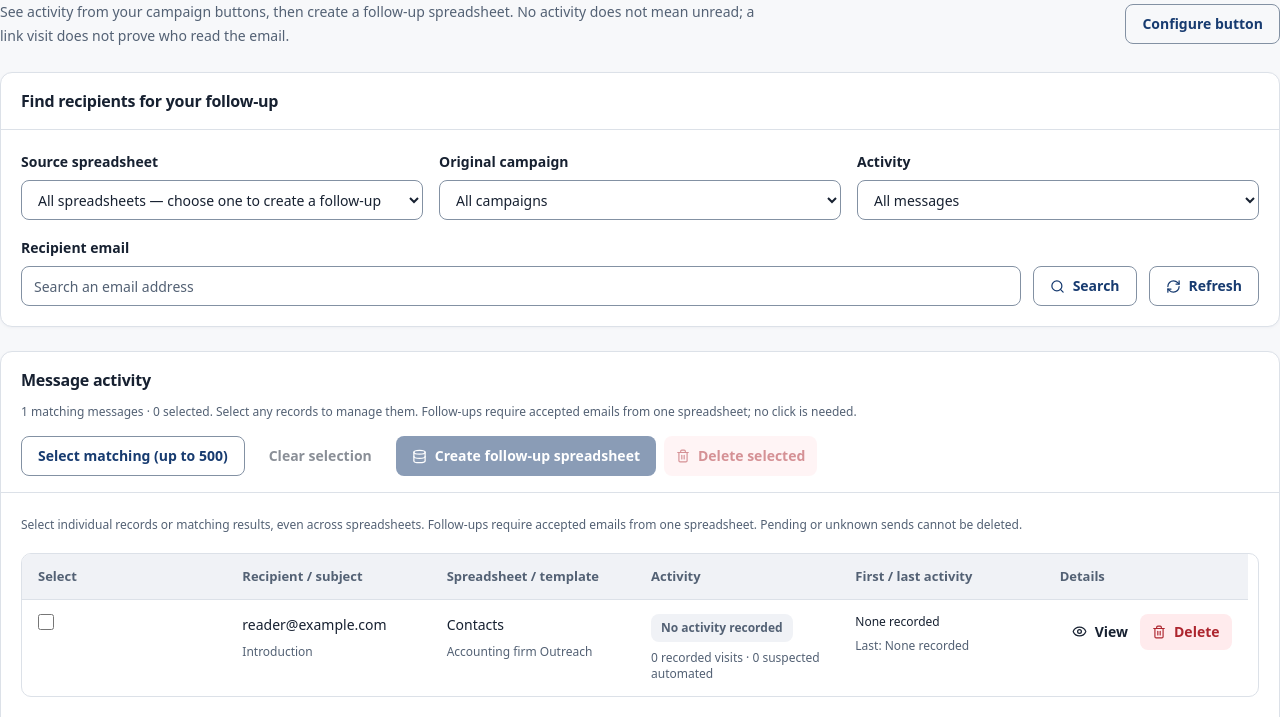
Test: simple engagement UI › selects a zero-click message directly without filtering out other spreadsheets and requires confirmation
The image size is (1280, 717).
Expected: the text "reader@example.com" is shown, [242,615,387,634]
Expected: the button "Create follow-up spreadsheet" is disabled, [396,436,656,476]
Click the checkbox at (46, 622), box [38,614,54,630]
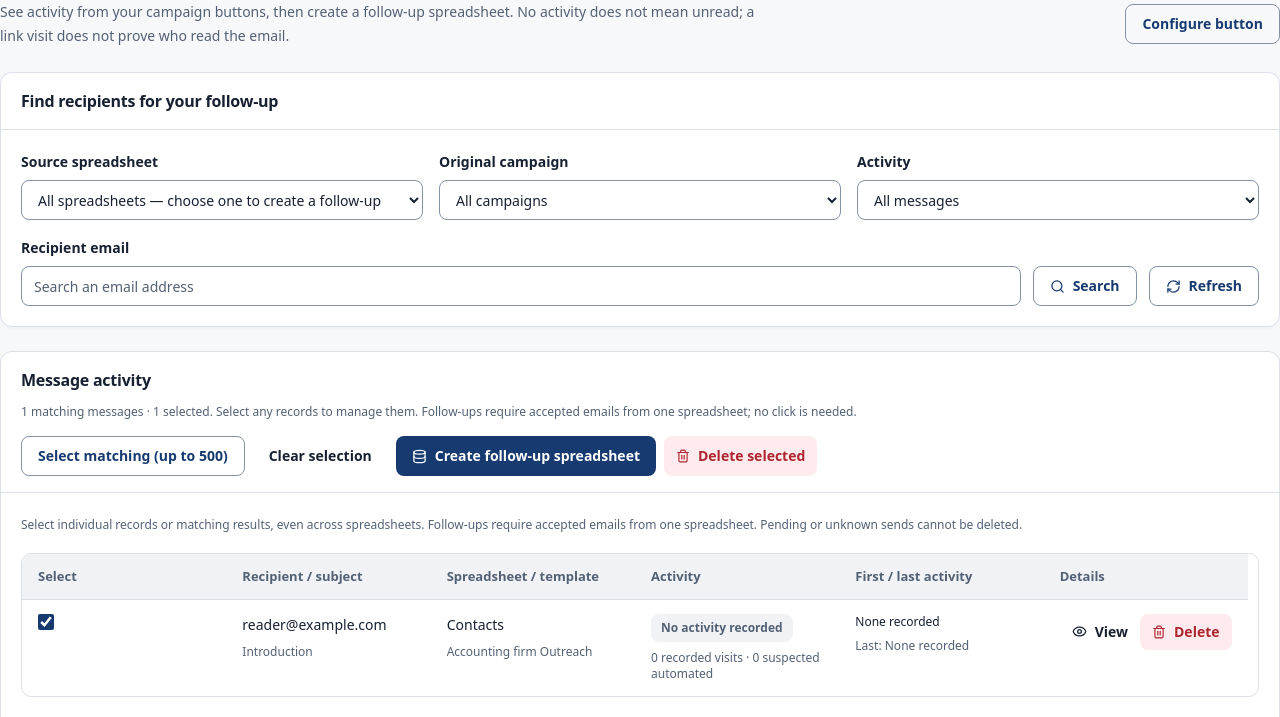
Expected: the button "Create follow-up spreadsheet" is enabled
Click the button "Create follow-up spreadsheet" at (526, 456), box [396,436,656,476]
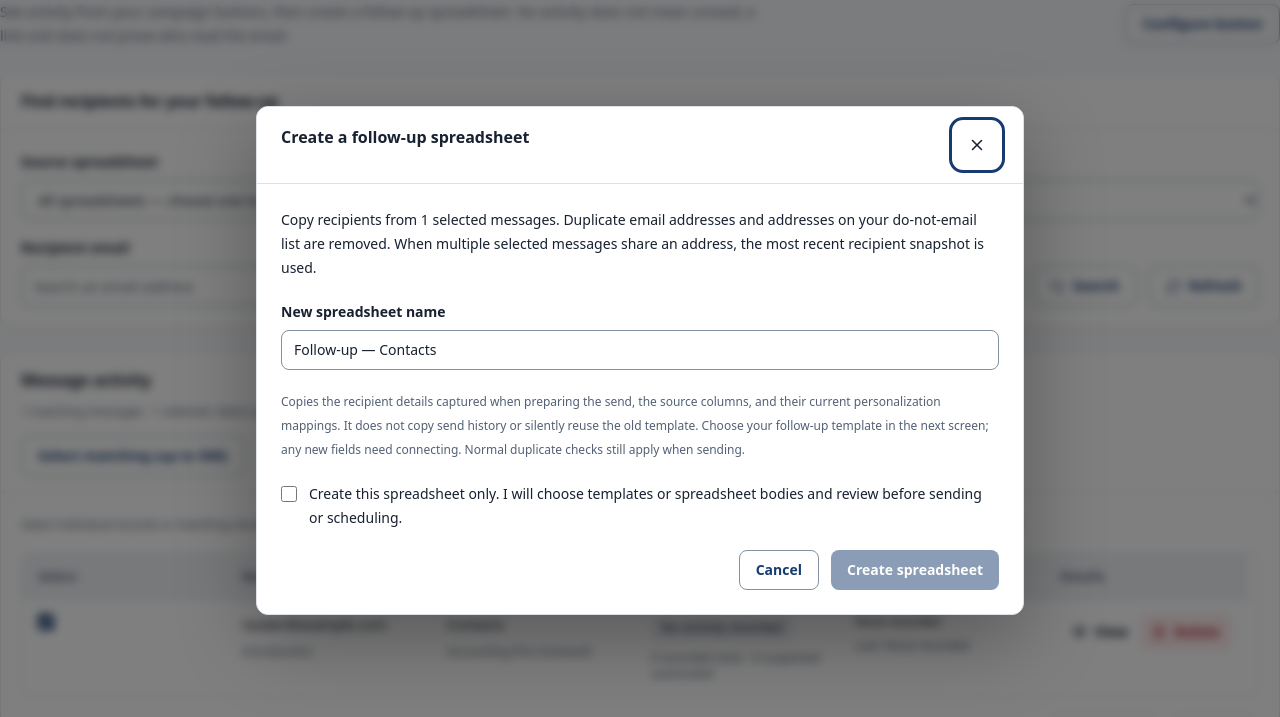
Expected: the button "Create spreadsheet" is disabled, [831,550,999,590]
Click the checkbox labelled "Create this spreadsheet only" at (289, 494), box [281,486,297,502]
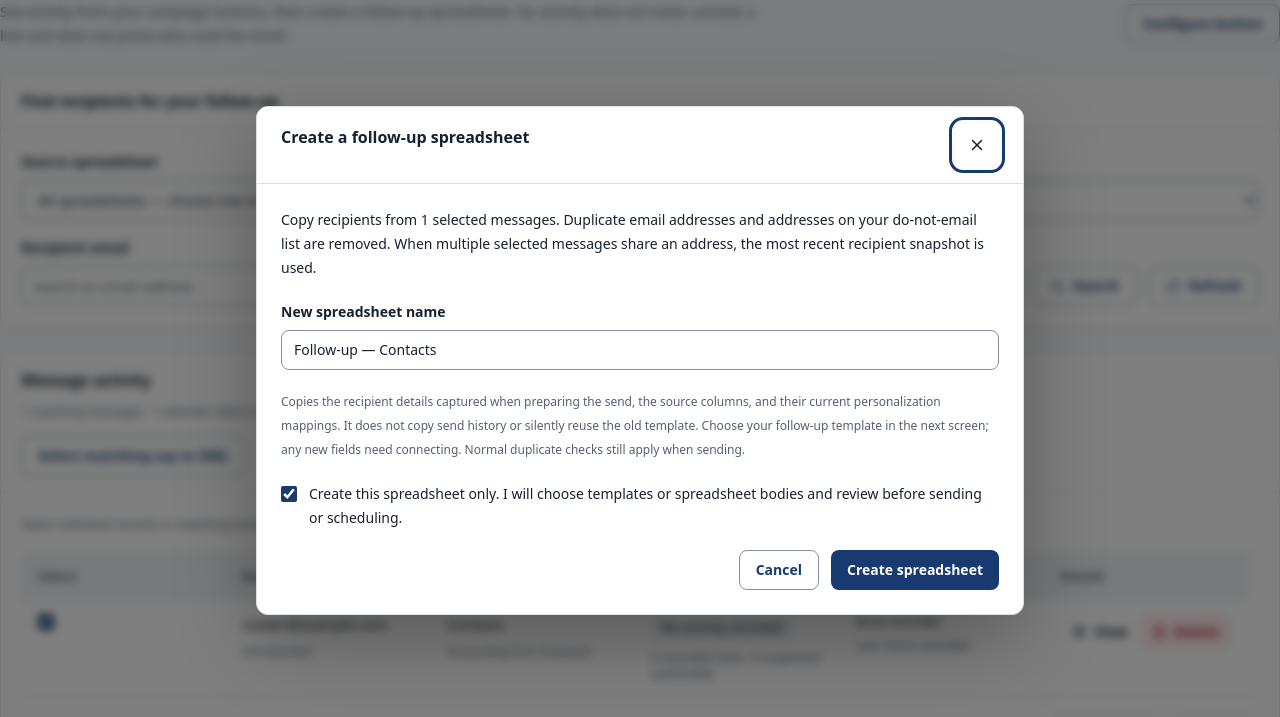
Click the button "Create spreadsheet" at (915, 570), box [831,550,999,590]
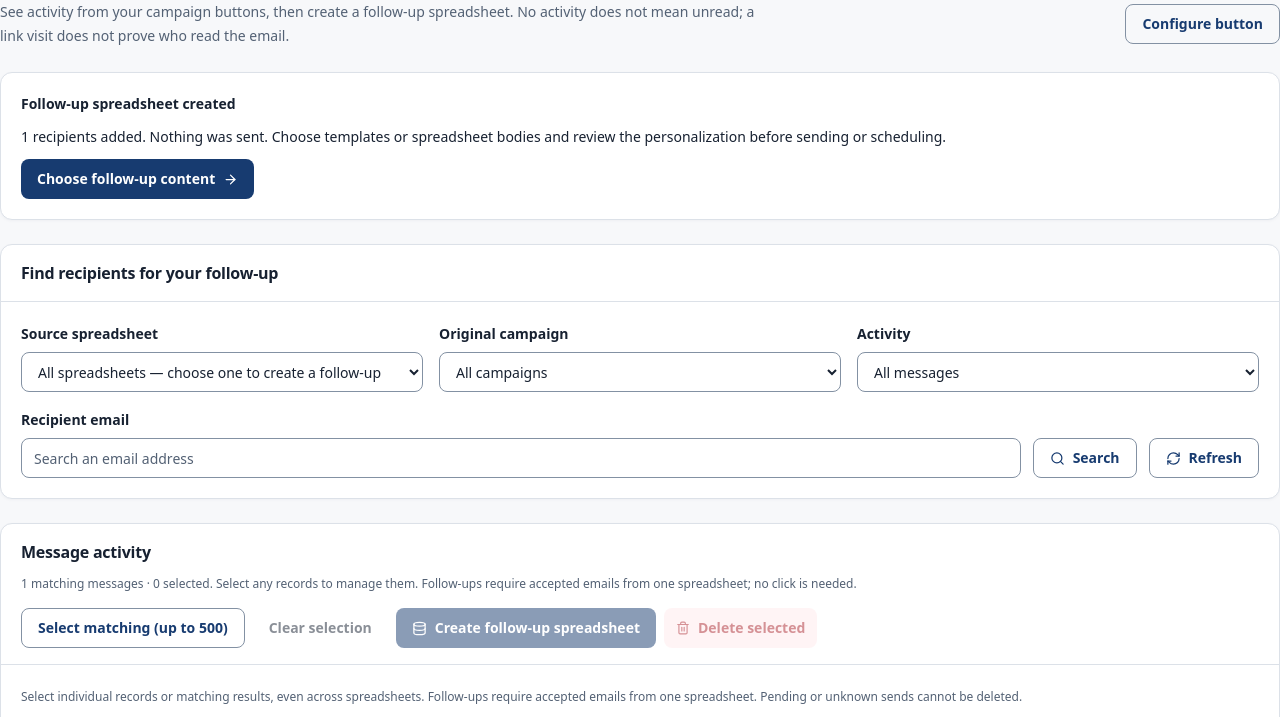
Expected: the heading "Follow-up spreadsheet created" is shown, [21,94,236,113]
